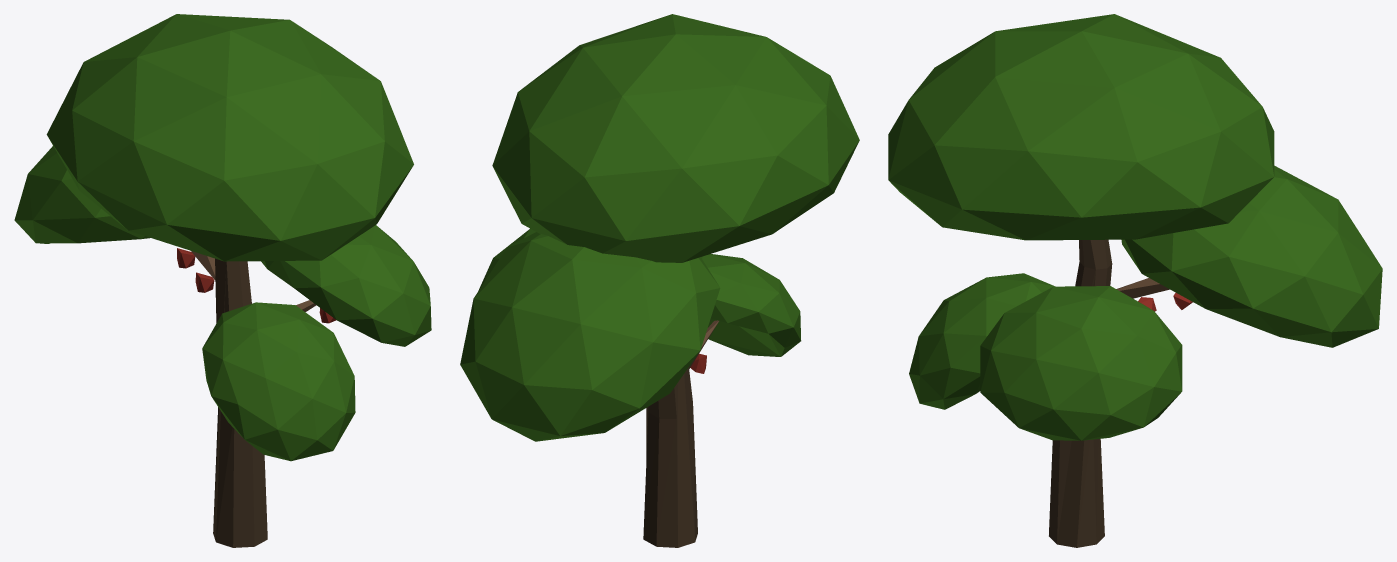
The model's file is orchard-tree.lod1.glb.
3 views of the same model, side by side, from view 1: azimuth 30°, elevation 25°; view 2: azimuth 150°, elevation 25°; view 3: azimuth 270°, elevation 25° (orthographic).
Parts seen in each view (by area): view 1: Cylinder.000_Material.004_0; view 2: Cylinder.000_Material.004_0; view 3: Cylinder.000_Material.004_0.
Boxes of the visible parts, <box> form: Cylinder.000_Material.004_0: <box>14,14,431,547</box>; Cylinder.000_Material.004_0: <box>460,14,859,547</box>; Cylinder.000_Material.004_0: <box>888,14,1382,547</box>.
Size of the model in its own units: 3.15 by 4.5 by 4.02.
